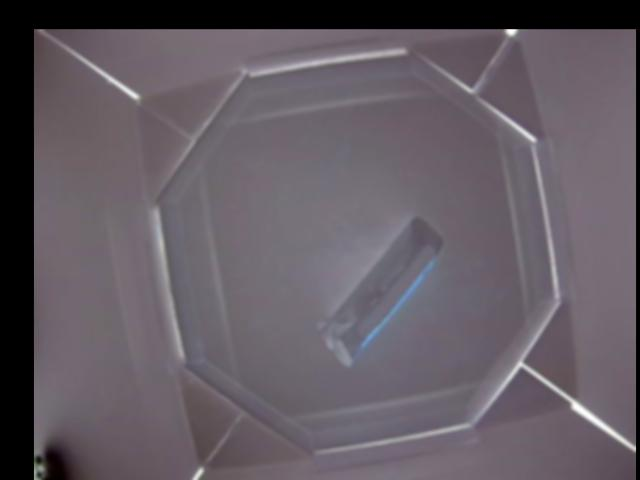China: (321, 217, 447, 366)
